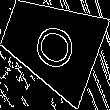O_NW: (24, 14, 78, 73)
